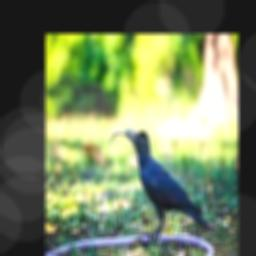Crow: (125, 129, 213, 238)
